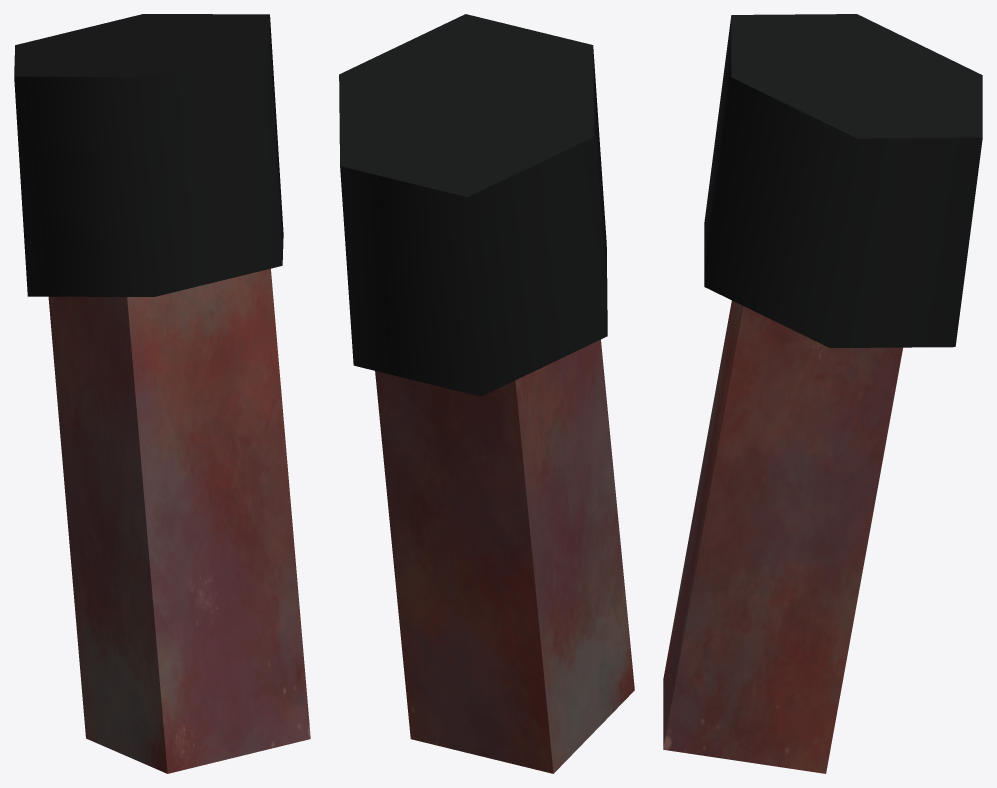
File: lever.obj
3 views of the same model, side by side, from view 1: azimuth 30°, elevation 25°; view 2: azimuth 150°, elevation 25°; view 3: azimuth 270°, elevation 25° (orthographic).
Parts seen in each view (by area): view 1: Cube.012; view 2: Cube.012; view 3: Cube.012.
Boxes of the visible parts, x1,y1,x2,y2 form: Cube.012: (14,14,310,773); Cube.012: (339,14,634,773); Cube.012: (663,14,982,773).
Bounding box in the file's own units: 0.0653 × 0.1694 × 0.0708.
Materials: 2 (2 with a texture image).
